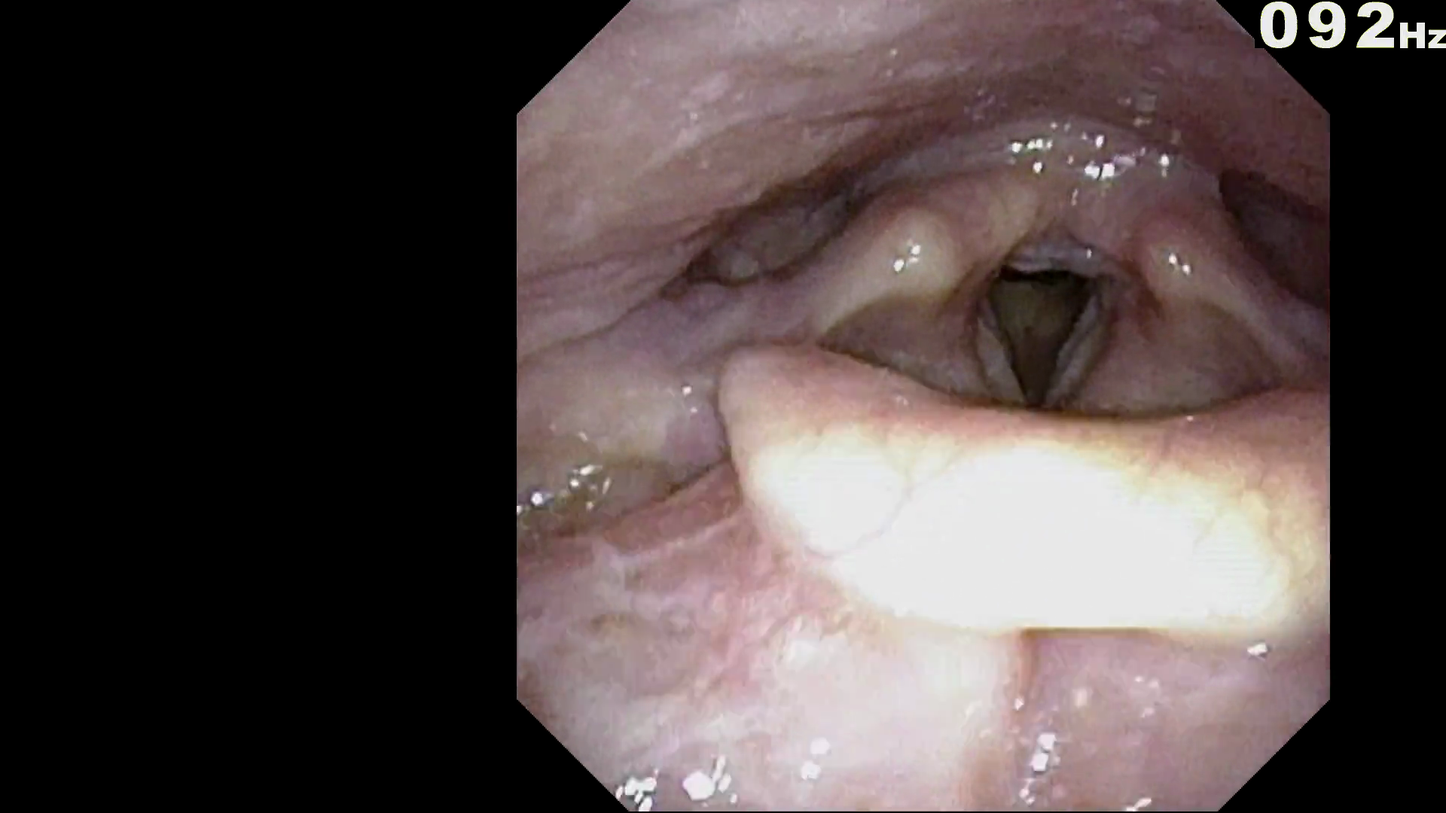epiglottis: (697, 348, 1320, 654)
trachea: (948, 249, 1128, 459)
